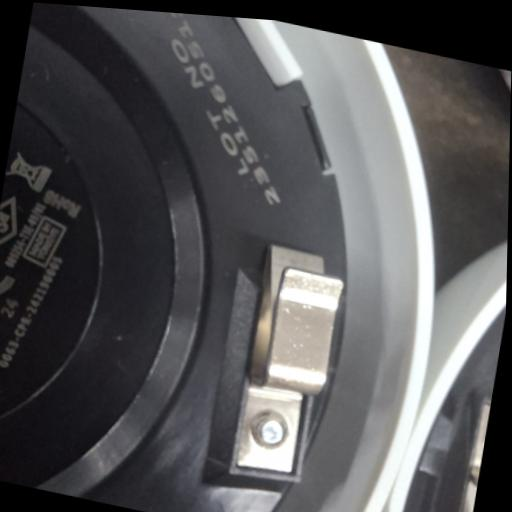yayli: (224, 236, 351, 492)
